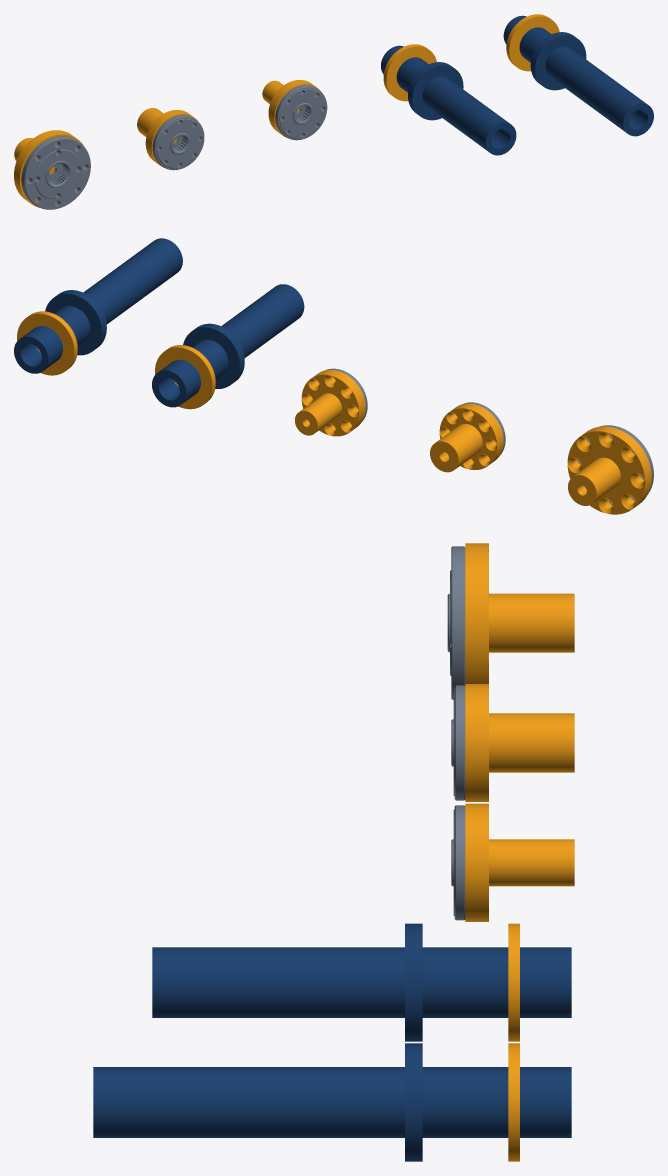
Rendered from HR-30_leg_drivetrain_adapter_lineup_candidate.glb.
3 renders of one model, top to bottom at view 1: azimuth 30°, elevation 25°; view 2: azimuth 150°, elevation 25°; view 3: azimuth 270°, elevation 25°, orthographic. The views are drawn at different scales.
Parts seen in each view (by area): view 1: OS-P12-55_SHOULDERED_SHAFT, OS-P12-45_SHOULDERED_SHAFT, MA-HN13-P10_EXACT_HN13-N101, MA-HN12-P10_EXACT_HN12-N101, MA-HN12-P8_EXACT_HN12-N101, OS-P12-45_CAPTURE_WASHER, OS-P12-55_CAPTURE_WASHER, MA-HN13-P10_PROJECT_ADAPTER, MA-HN12-P10_PROJECT_ADAPTER, MA-HN12-P8_PROJECT_ADAPTER; view 2: OS-P12-55_SHOULDERED_SHAFT, OS-P12-45_SHOULDERED_SHAFT, MA-HN13-P10_PROJECT_ADAPTER, MA-HN12-P10_PROJECT_ADAPTER, MA-HN12-P8_PROJECT_ADAPTER, OS-P12-55_CAPTURE_WASHER, OS-P12-45_CAPTURE_WASHER; view 3: OS-P12-55_SHOULDERED_SHAFT, OS-P12-45_SHOULDERED_SHAFT, MA-HN13-P10_PROJECT_ADAPTER, MA-HN12-P10_PROJECT_ADAPTER, MA-HN12-P8_PROJECT_ADAPTER, MA-HN13-P10_EXACT_HN13-N101, MA-HN12-P8_EXACT_HN12-N101, MA-HN12-P10_EXACT_HN12-N101, OS-P12-45_CAPTURE_WASHER, OS-P12-55_CAPTURE_WASHER.
Boxes of the visible parts, x1,y1,x2,y2 form: OS-P12-55_SHOULDERED_SHAFT: [503, 15, 653, 136]; OS-P12-45_SHOULDERED_SHAFT: [381, 45, 516, 155]; MA-HN13-P10_EXACT_HN13-N101: [21, 136, 90, 209]; MA-HN12-P10_EXACT_HN12-N101: [152, 115, 204, 170]; MA-HN12-P8_EXACT_HN12-N101: [275, 85, 327, 140]; OS-P12-45_CAPTURE_WASHER: [383, 44, 436, 101]; OS-P12-55_CAPTURE_WASHER: [506, 14, 559, 71]; MA-HN13-P10_PROJECT_ADAPTER: [14, 130, 85, 207]; MA-HN12-P10_PROJECT_ADAPTER: [137, 108, 199, 167]; MA-HN12-P8_PROJECT_ADAPTER: [262, 80, 322, 137]; OS-P12-55_SHOULDERED_SHAFT: [14, 238, 182, 373]; OS-P12-45_SHOULDERED_SHAFT: [152, 284, 304, 407]; MA-HN13-P10_PROJECT_ADAPTER: [567, 426, 651, 514]; MA-HN12-P10_PROJECT_ADAPTER: [430, 403, 503, 472]; MA-HN12-P8_PROJECT_ADAPTER: [295, 370, 365, 436]; OS-P12-55_CAPTURE_WASHER: [17, 311, 77, 375]; OS-P12-45_CAPTURE_WASHER: [155, 345, 215, 409]; OS-P12-55_SHOULDERED_SHAFT: [93, 1043, 571, 1161]; OS-P12-45_SHOULDERED_SHAFT: [152, 923, 571, 1041]; MA-HN13-P10_PROJECT_ADAPTER: [465, 543, 574, 683]; MA-HN12-P10_PROJECT_ADAPTER: [465, 684, 574, 801]; MA-HN12-P8_PROJECT_ADAPTER: [465, 803, 574, 921]; MA-HN13-P10_EXACT_HN13-N101: [447, 546, 465, 699]; MA-HN12-P8_EXACT_HN12-N101: [451, 805, 465, 920]; MA-HN12-P10_EXACT_HN12-N101: [451, 685, 465, 800]; OS-P12-45_CAPTURE_WASHER: [508, 923, 519, 1041]; OS-P12-55_CAPTURE_WASHER: [508, 1043, 519, 1161].
Size of the model in its own units: 215 by 27 by 81.5.
